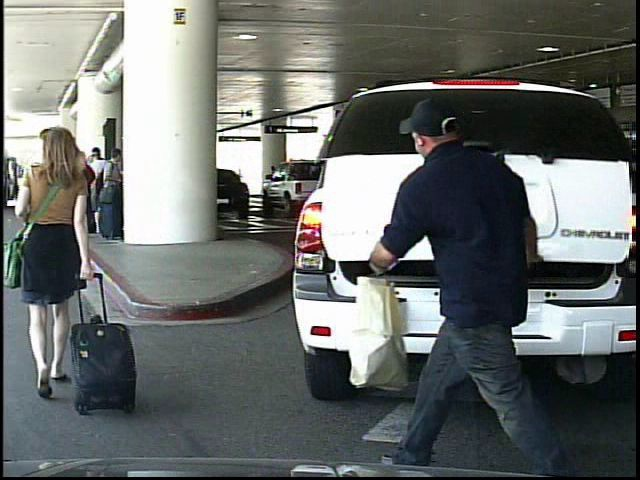person: (372, 64, 555, 472), (4, 121, 111, 420)
